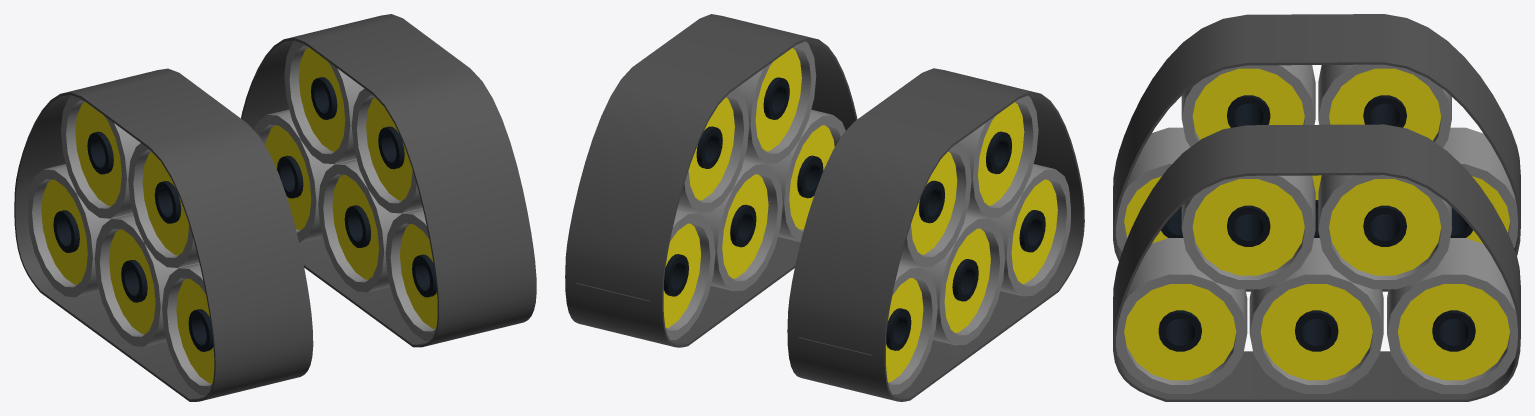
The model's file is Speed2.FBX.
3 views of the same model, side by side, from view 1: azimuth 30°, elevation 25°; view 2: azimuth 150°, elevation 25°; view 3: azimuth 270°, elevation 25° (orthographic).
Parts seen in each view (by area): view 1: Speed2; view 2: Speed2; view 3: Speed2.
Boxes of the visible parts, <box> form: Speed2: <box>14,14,536,401</box>; Speed2: <box>565,14,1084,401</box>; Speed2: <box>1113,14,1520,401</box>.
Size of the model in its own units: 0.7173 by 0.4832 by 0.7792.
